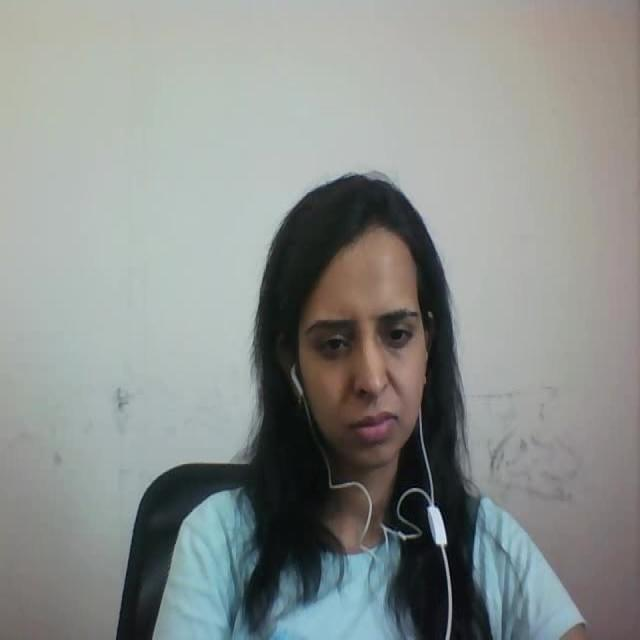Engaged: (234, 150, 480, 498)
